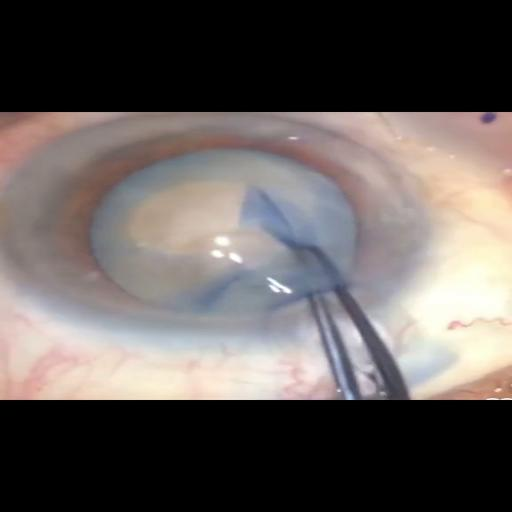catarata: (84, 151, 350, 310)
cornea: (132, 114, 430, 334)
pupil: (46, 130, 368, 318)
